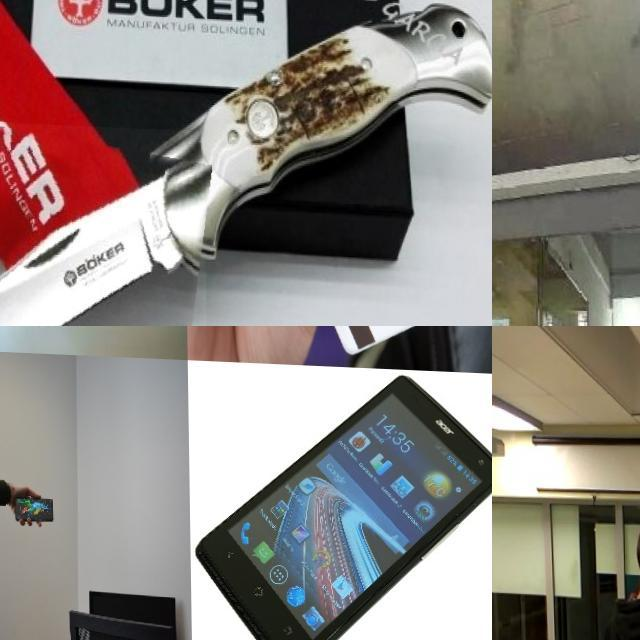-: (0, 117, 205, 326)
